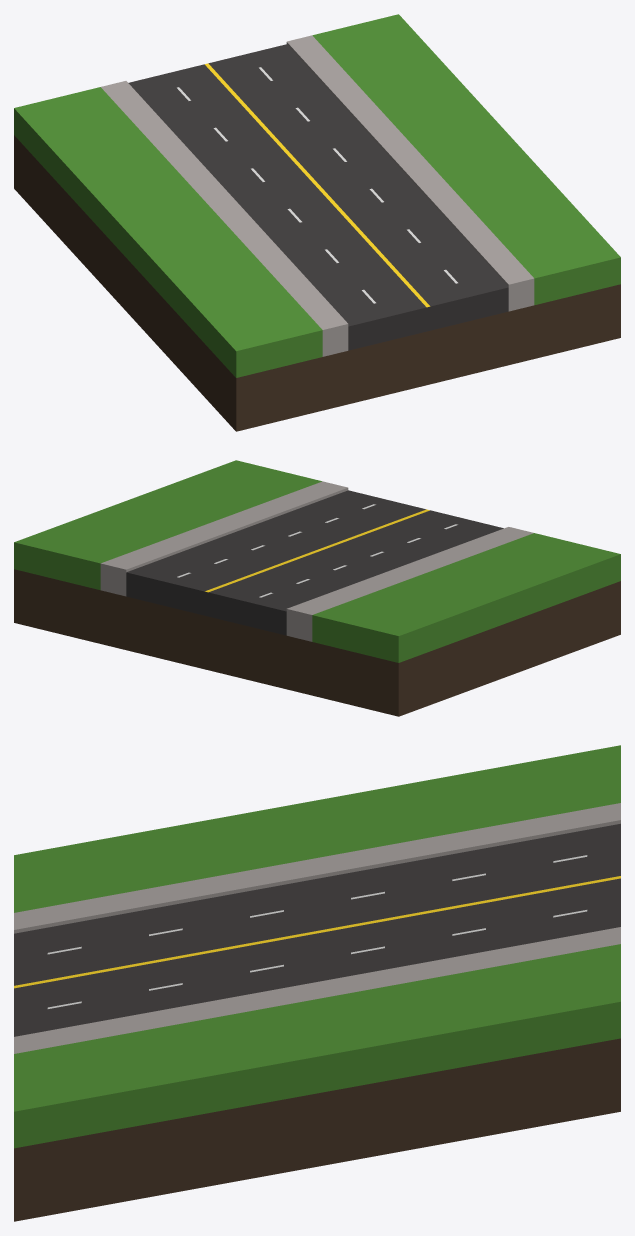
File: tiles_tile-mainroad-hill.fbx
The picture shows the model from 3 angles, top to bottom: view 1: azimuth 30°, elevation 25°; view 2: azimuth 150°, elevation 25°; view 3: azimuth 270°, elevation 25°; orthographic projection. The views are drawn at different scales.
Visible parts, largest first — view 1: tiles_tile_mainroad_hill; view 2: tiles_tile_mainroad_hill; view 3: tiles_tile_mainroad_hill.
Part boxes in pixels (x1=…): tiles_tile_mainroad_hill: x1=14, y1=14, x2=620, y2=431; tiles_tile_mainroad_hill: x1=14, y1=460, x2=620, y2=716; tiles_tile_mainroad_hill: x1=14, y1=745, x2=620, y2=1221.
Size of the model in its own units: 200 by 80 by 200.
